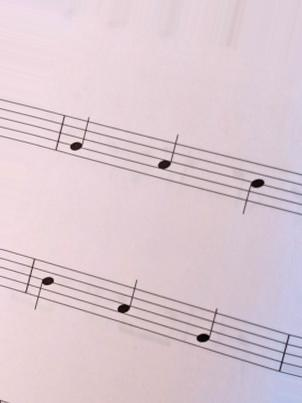note: (239, 153, 267, 220), (30, 251, 57, 314), (114, 276, 140, 336), (156, 130, 181, 190), (194, 300, 219, 360), (68, 110, 92, 166)
